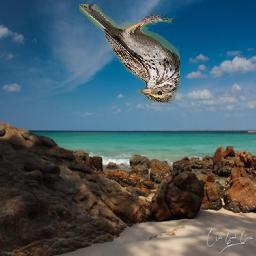Sparrow: (80, 5, 181, 104)
